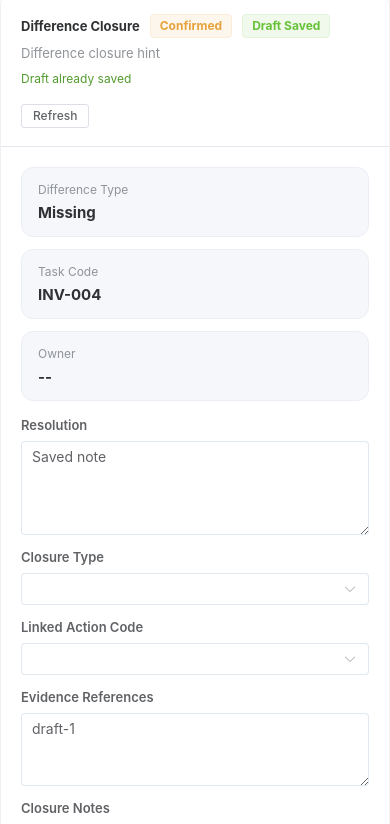
Scenario: InventoryDifferenceClosurePanel › tracks dirty draft state and disables save when nothing changed
Step 1. Replace the text in the text box below "Resolution" with "Saved note updated" → (195, 488), box 21,440 -> 369,534
(page scrolled)
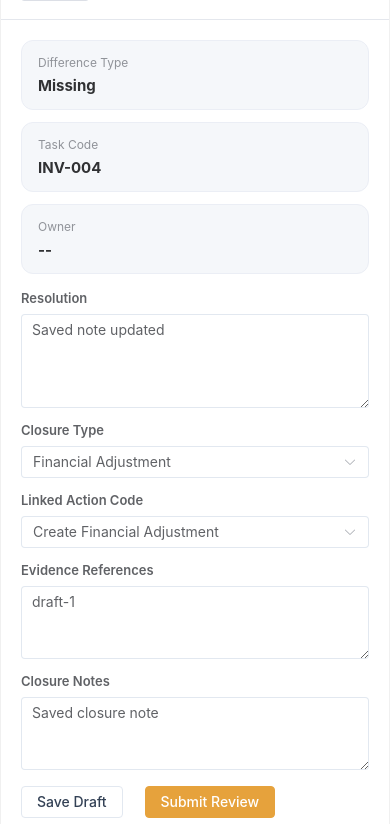
Check: the button "Save Draft" is enabled
Step 2. Click the button "Save Draft" → (72, 802), box 21,786 -> 122,818
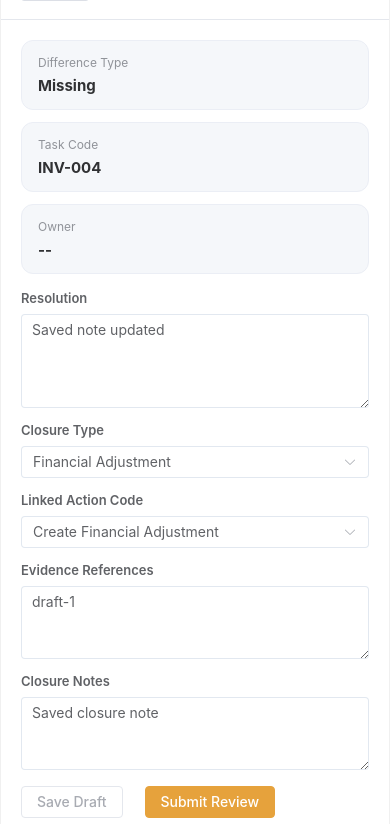
Check: the button "Save Draft" is disabled, box 21,786 -> 122,818
